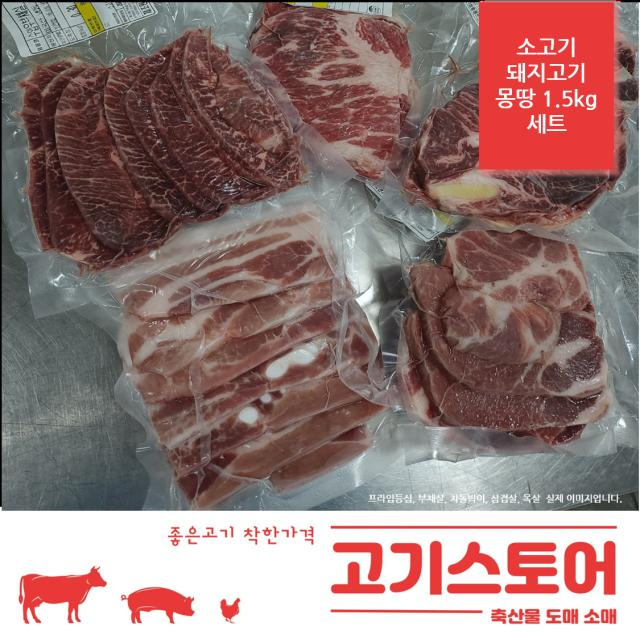beef: (112, 223, 384, 447), (428, 205, 606, 445), (40, 55, 281, 232), (270, 20, 419, 174)
